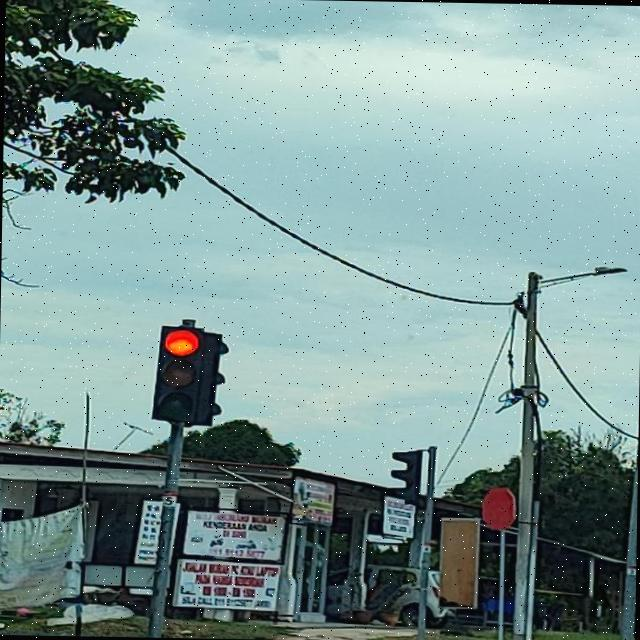red_light: (148, 327, 205, 420)
